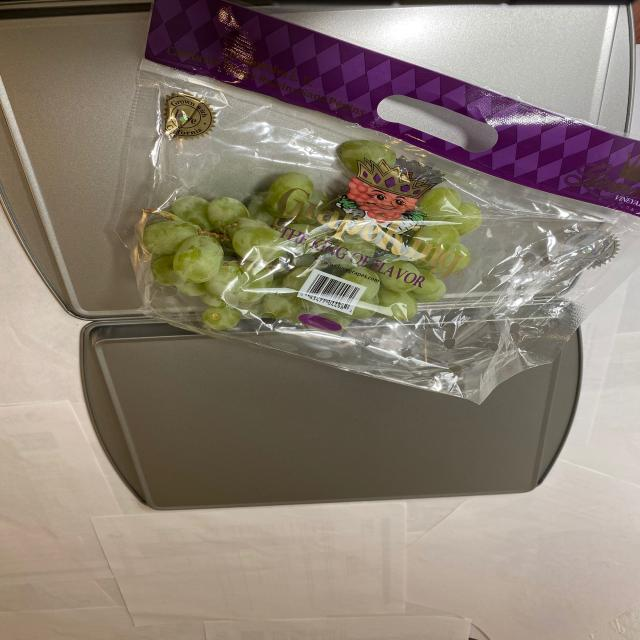grapes: (118, 157, 475, 329)
